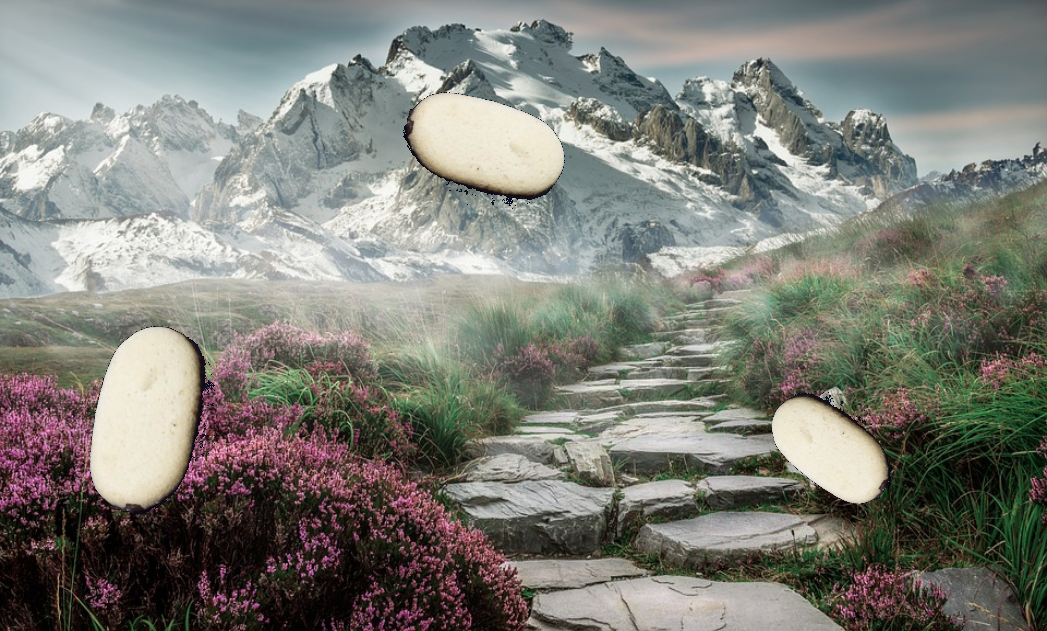test: (33, 305, 270, 540), (381, 48, 581, 250), (765, 375, 904, 518)
